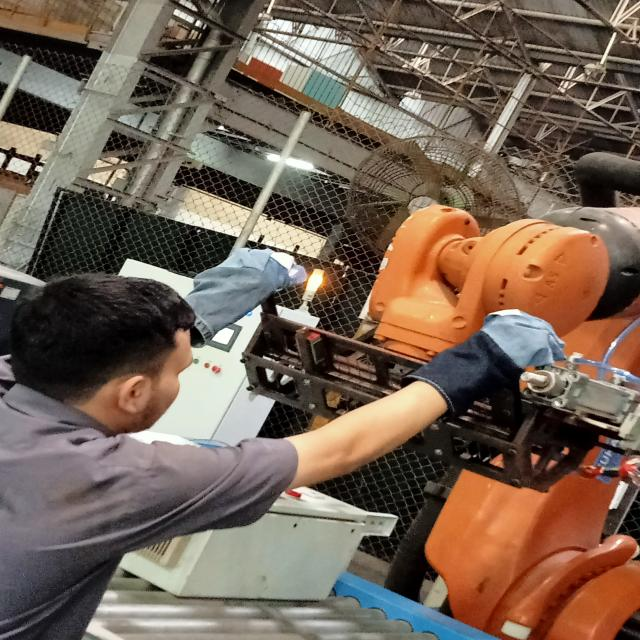Gloves-Detection: (406, 304, 564, 407), (185, 241, 302, 349)
